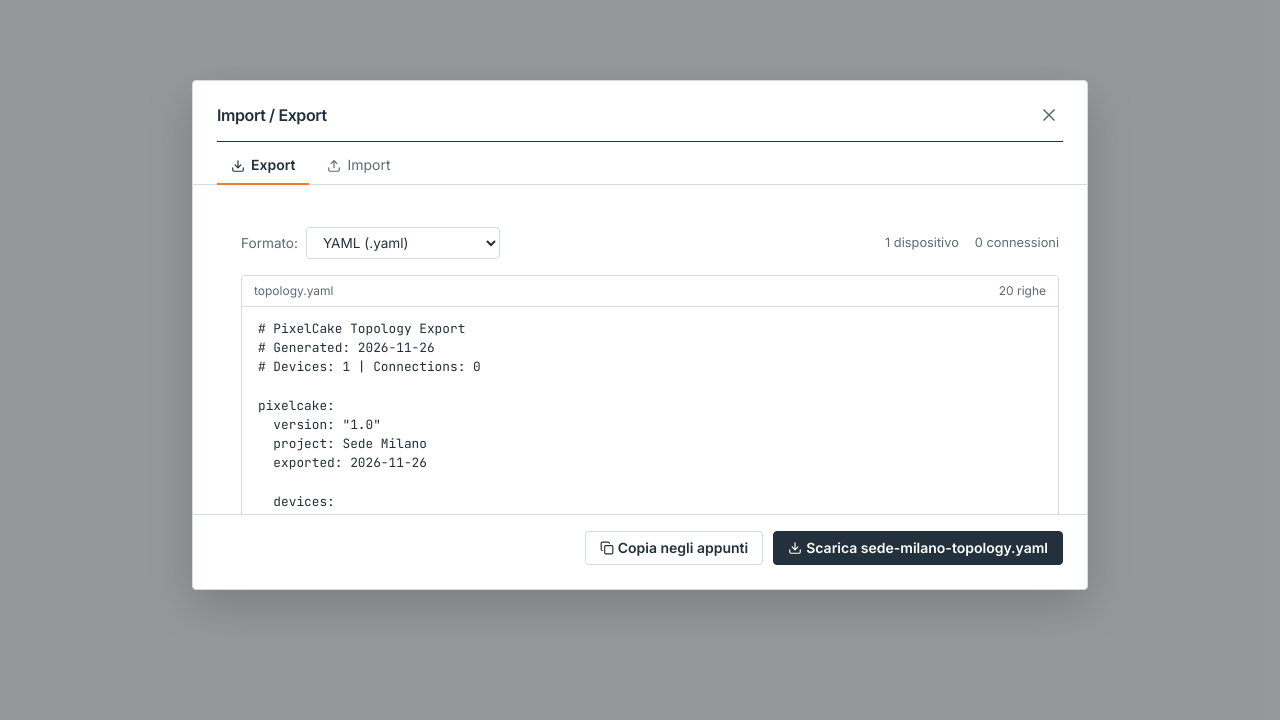
Test: ImportExportModal — export formats › warns that the Terraform draft cannot be applied, only while it is selected
This screenshot has width=1280, height=720.
Select "Terraform HCL (bozza)" in the dropdown labelled "Formato:" at (403, 243), box x1=306 y1=227 x2=500 y2=259
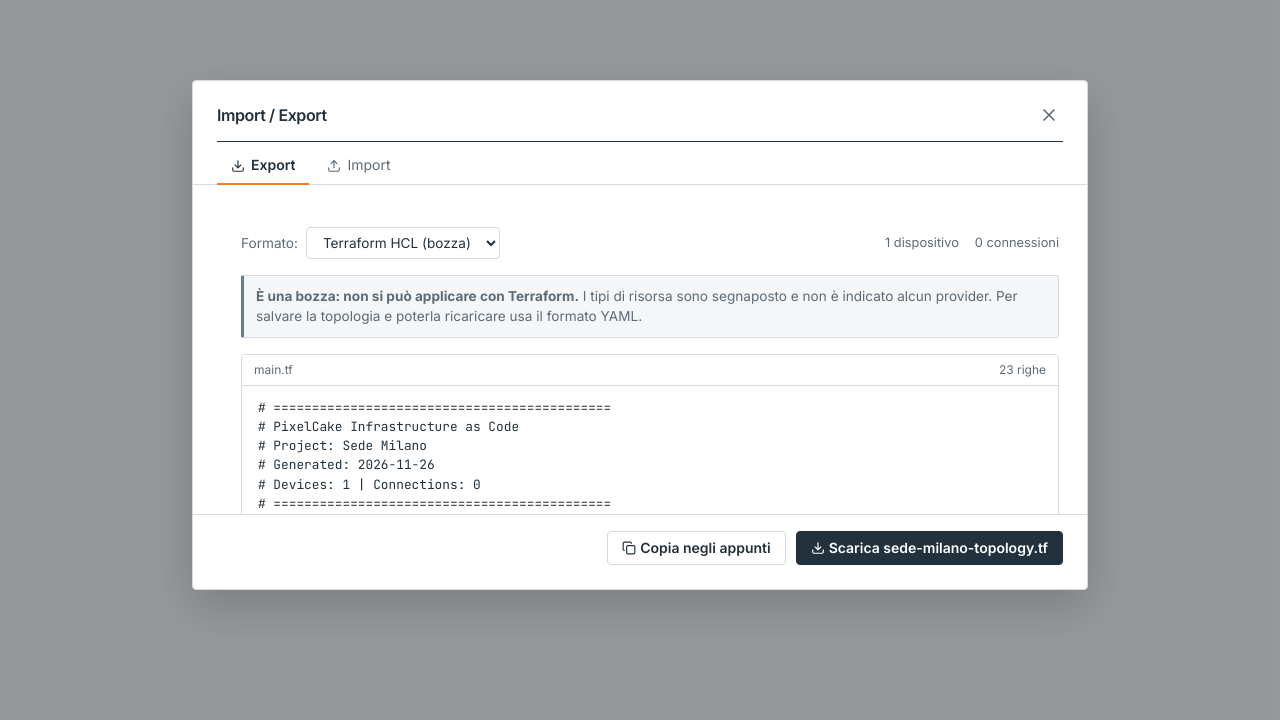
Expected: the button "Scarica sede-milano-topology.tf" is shown, x1=796 y1=531 x2=1063 y2=565
Expected: the text "non si può applicare con Terraform" is shown, x1=256 y1=288 x2=579 y2=304
Expected: the text "È una bozza" is shown, x1=256 y1=288 x2=579 y2=304
Select "YAML (.yaml)" in the dropdown labelled "Formato:" at (403, 243), box x1=306 y1=227 x2=500 y2=259
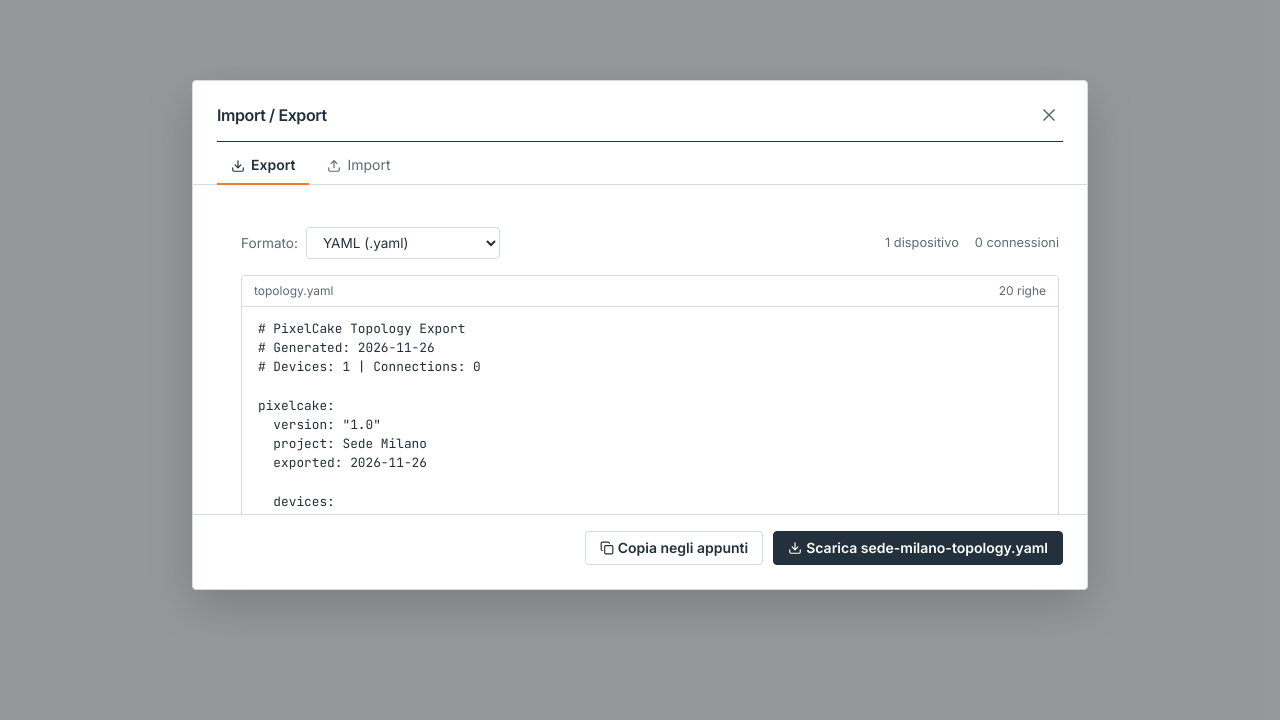
Expected: the text "non si può applicare con Terraform" is gone
